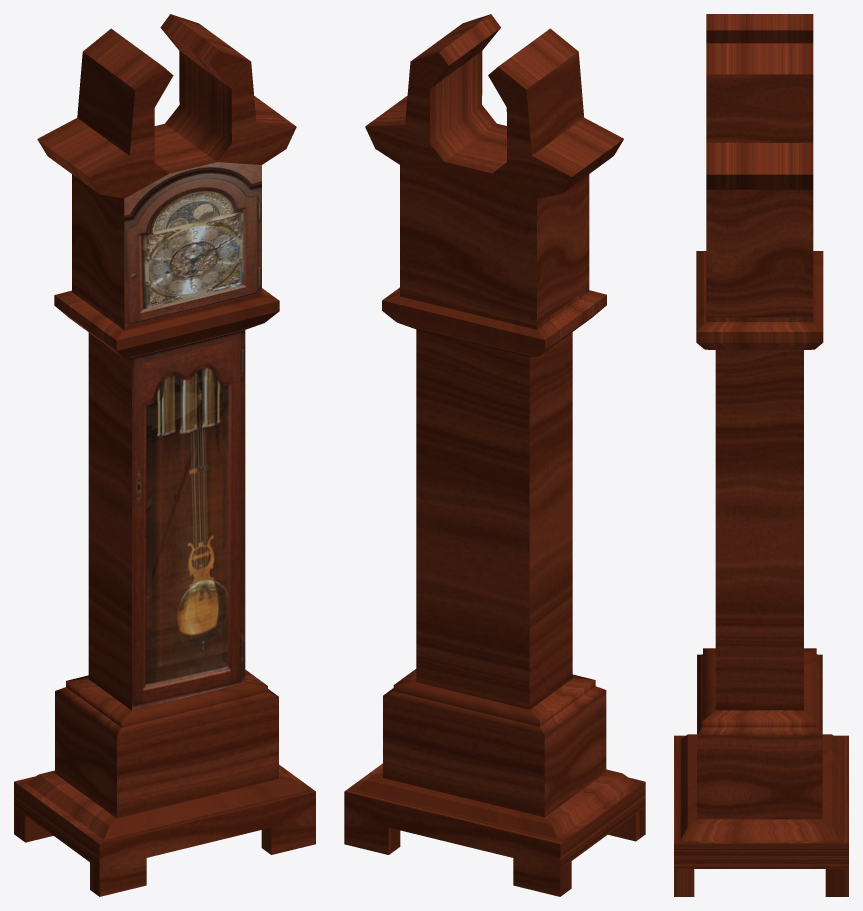
Rendered from grandfather_clock_model.fbx.
The picture shows the model from 3 angles, left to right: view 1: azimuth 30°, elevation 25°; view 2: azimuth 150°, elevation 25°; view 3: azimuth 270°, elevation 25°; orthographic projection. The views are drawn at different scales.
Visible parts, largest first — view 1: pCube15; view 2: pCube15; view 3: pCube15.
Part boxes in pixels (box(x1,y1,x2,y2)): pCube15: box(14, 14, 315, 896); pCube15: box(344, 14, 645, 896); pCube15: box(674, 14, 848, 896).
Size of the model in its own units: 0.1011 by 0.3569 by 0.0693.
